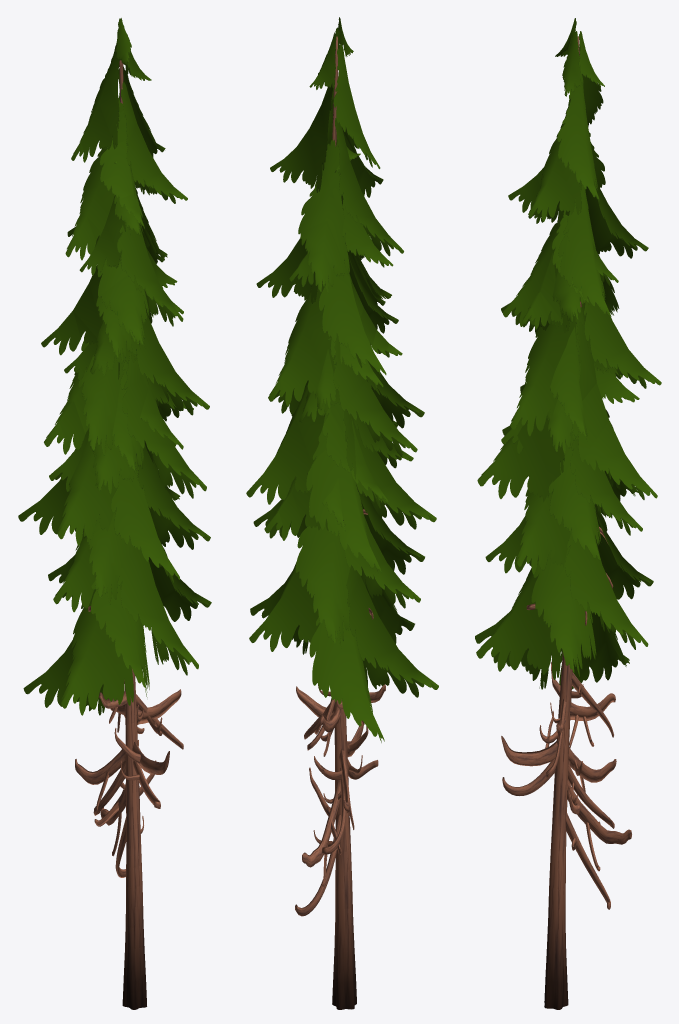
File: trees_cypress.glb
3 renders of one model, left to right at view 1: azimuth 30°, elevation 25°; view 2: azimuth 150°, elevation 25°; view 3: azimuth 270°, elevation 25°, orthographic.
Visible parts, largest first — view 1: Cypress_1, Cypress_2; view 2: Cypress_1, Cypress_2; view 3: Cypress_1, Cypress_2.
Boxes of the visible parts, x1,y1,x2,y2 form: Cypress_1: [18, 18, 209, 1009]; Cypress_2: [23, 161, 211, 856]; Cypress_1: [246, 17, 436, 1009]; Cypress_2: [249, 146, 438, 886]; Cypress_1: [477, 18, 661, 1009]; Cypress_2: [475, 201, 653, 871].
Bounding box in the file's own units: 1.79 × 9.61 × 1.7.
2 materials, 2 textured.
